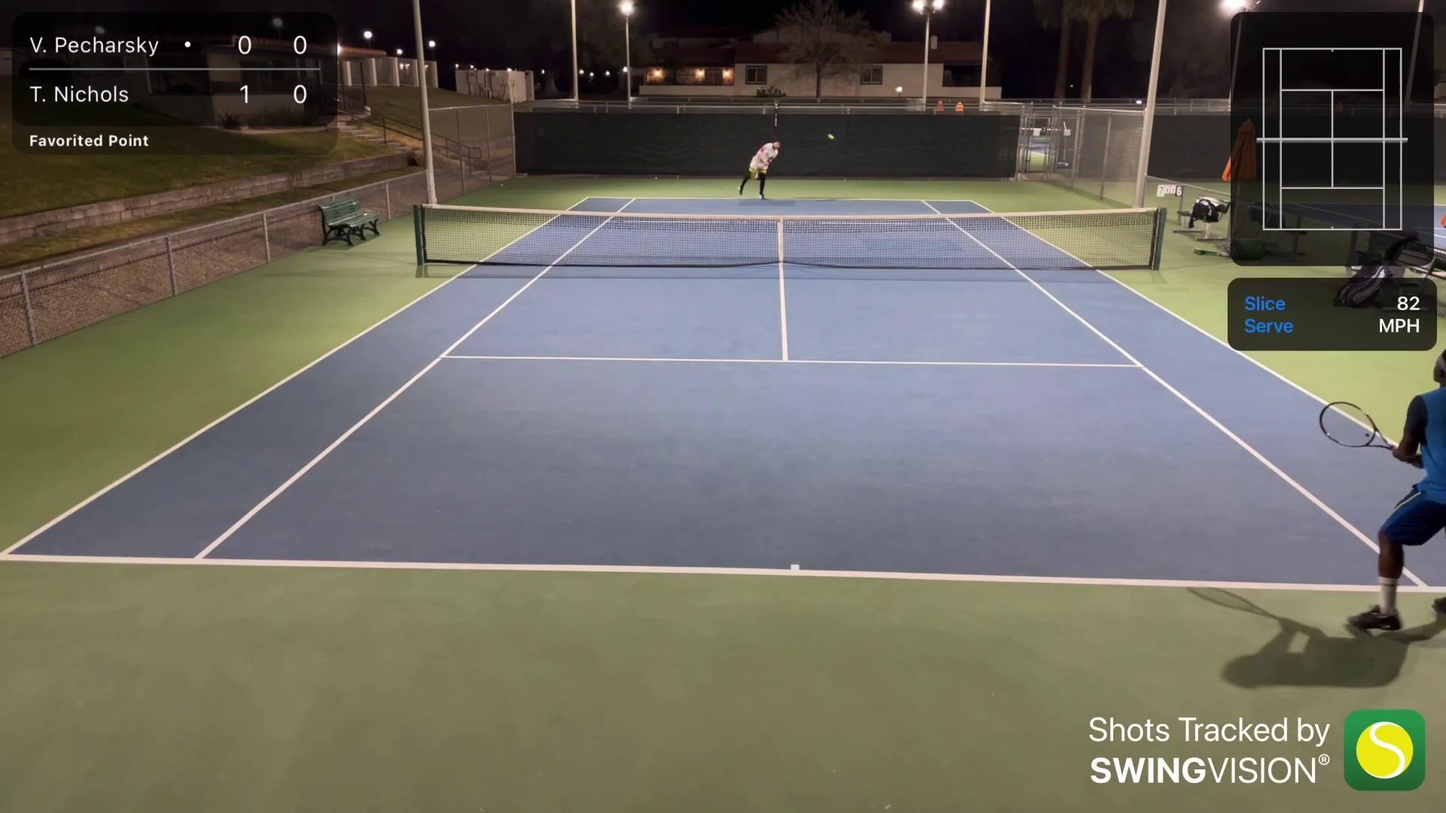ball: (829, 136, 837, 142), (499, 183, 505, 187)
